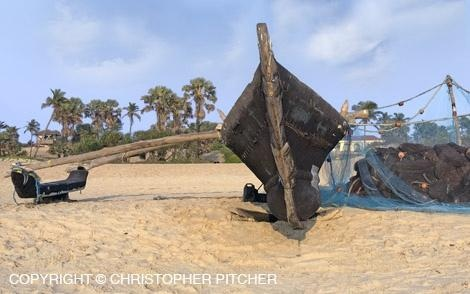boat: (219, 18, 360, 238)
